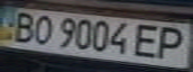0: (90, 18, 112, 53), (72, 16, 93, 52)
4: (109, 19, 136, 56)
9: (54, 15, 78, 48)
B: (6, 10, 39, 43)
E: (130, 21, 166, 60)
O: (27, 12, 57, 46)
P: (151, 24, 193, 61)
